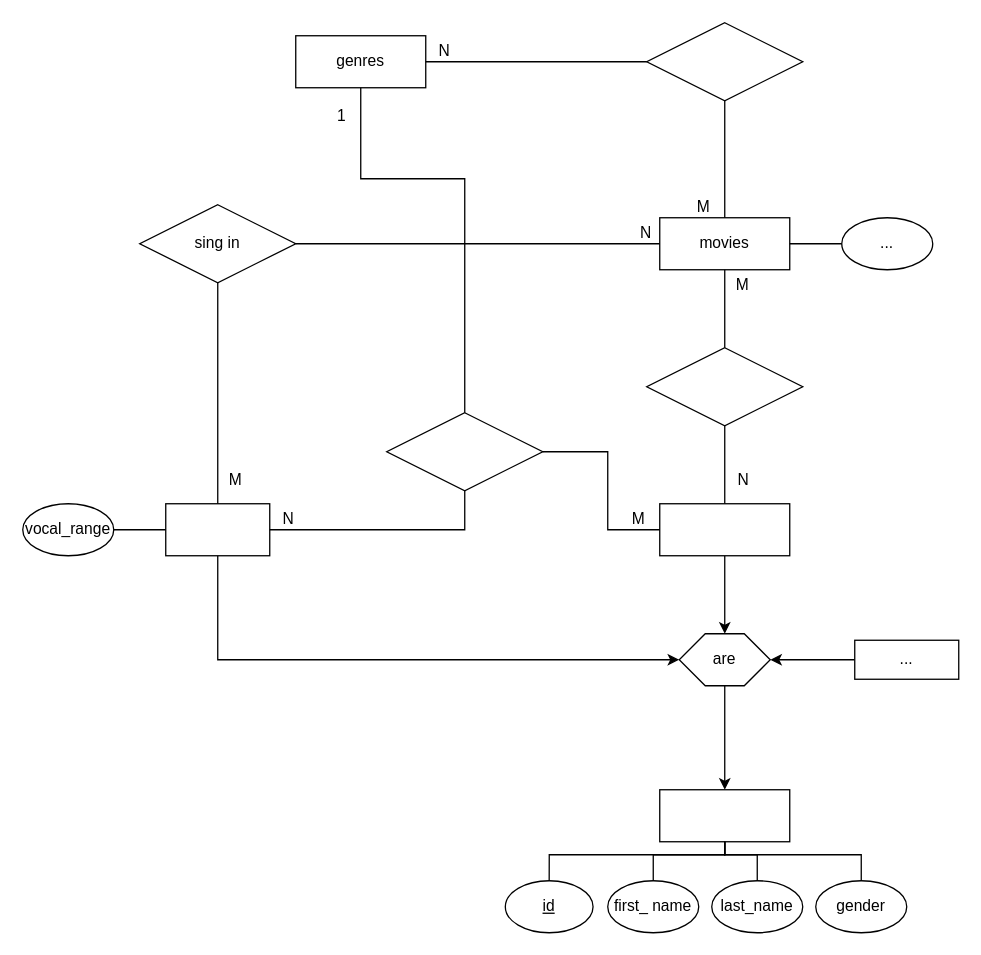
This 981x955 diagram has some shape labels left out. The shapes that lost their labels are listed below. From the top down, each one's centre as x and y in pixels, then its label:
the point at 724,61: have
the point at 724,386: make
the point at 464,451: work with
the point at 217,529: singers
the point at 724,529: directors
the point at 724,815: persons
